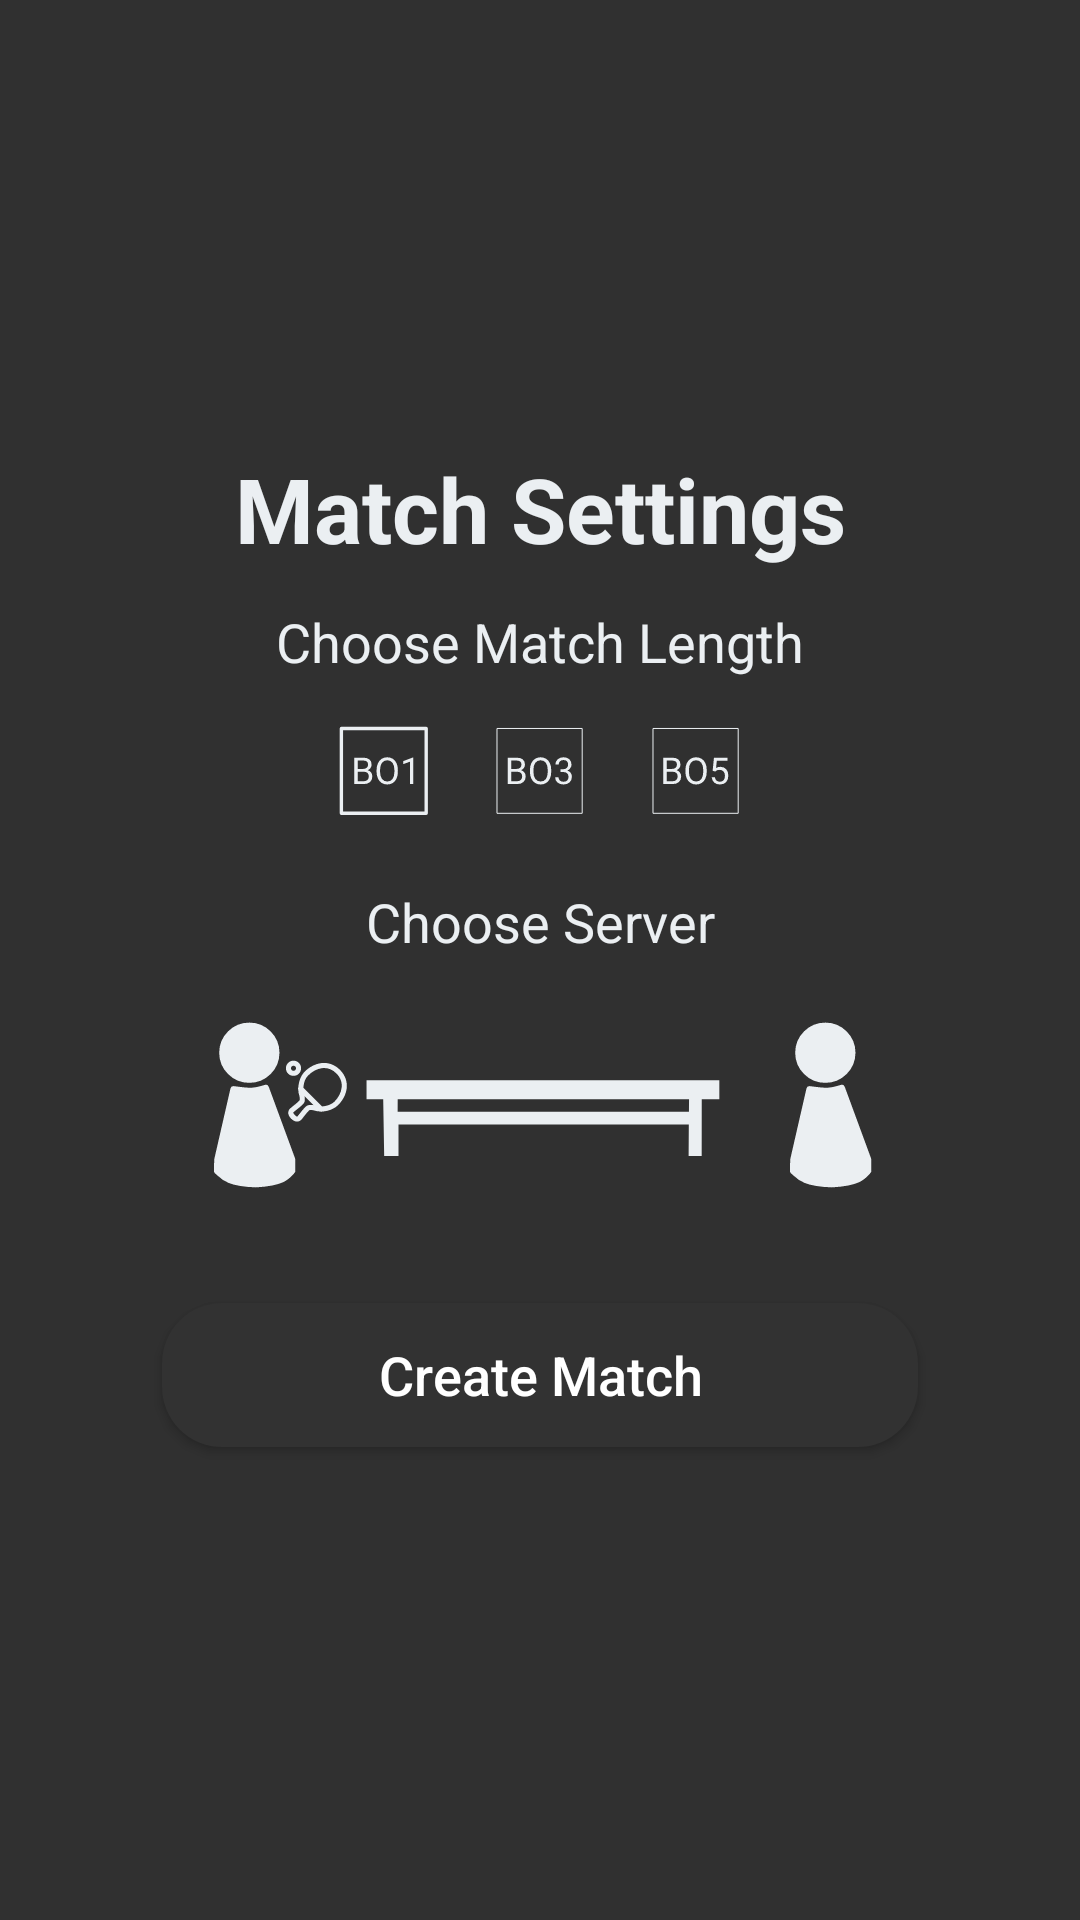

Screen size 1080×1920. Icon name, then its box in pixels as (x1, y1, x2, y2):
player not server: (790, 1022, 872, 1188)
player server: (214, 1022, 347, 1188)
table: (366, 1080, 720, 1156)
